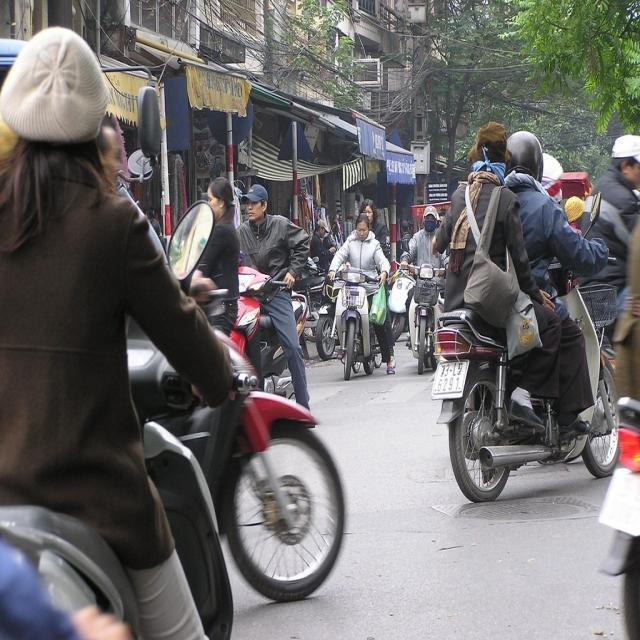motorcycle: (2, 276, 347, 637), (1, 328, 252, 640), (422, 245, 629, 511), (225, 260, 317, 427), (331, 261, 386, 382), (398, 266, 440, 379)
plate: (428, 354, 471, 402)
